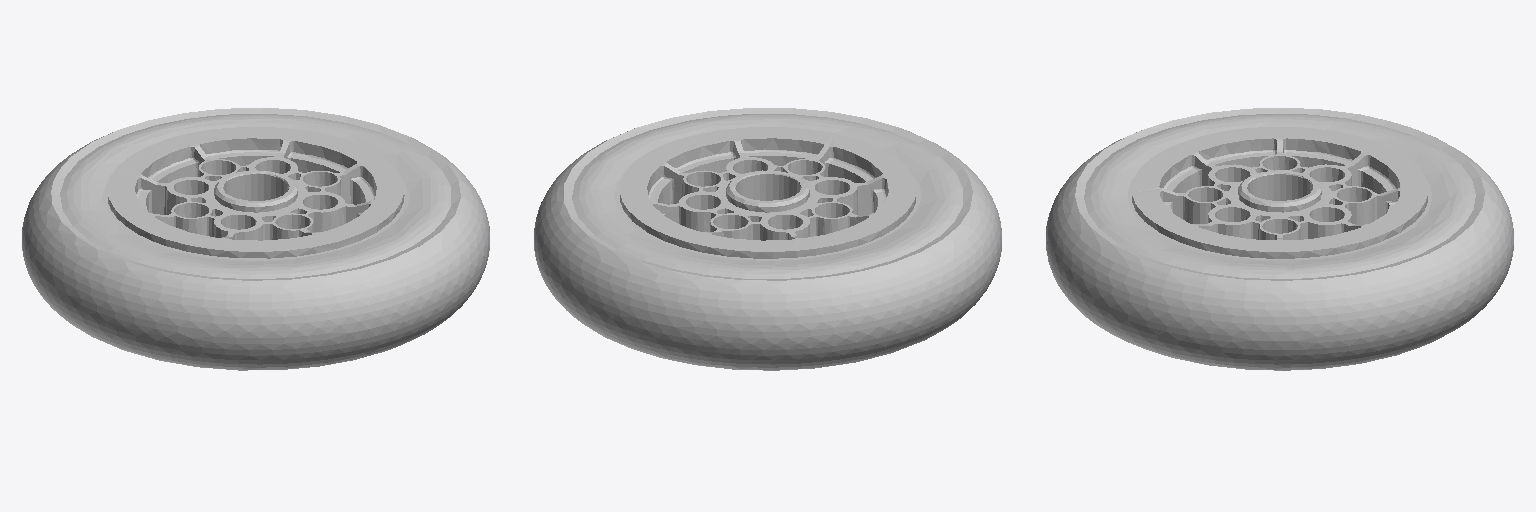
File: wheel_h.obj
3 views of the same model, side by side, from view 1: azimuth 30°, elevation 25°; view 2: azimuth 150°, elevation 25°; view 3: azimuth 270°, elevation 25° (orthographic).
Visible parts, largest first — view 1: wheel_H1_wheel_H1Shape; view 2: wheel_H1_wheel_H1Shape; view 3: wheel_H1_wheel_H1Shape.
Boxes of the visible parts, box(x1,y1,x2,y2) form: wheel_H1_wheel_H1Shape: box(22, 108, 489, 370); wheel_H1_wheel_H1Shape: box(534, 108, 1001, 370); wheel_H1_wheel_H1Shape: box(1046, 108, 1513, 370).
Size of the model in its own units: 0.158 by 0.0517 by 0.158.